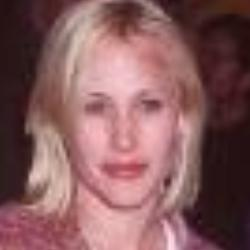face: (12, 4, 214, 217)
